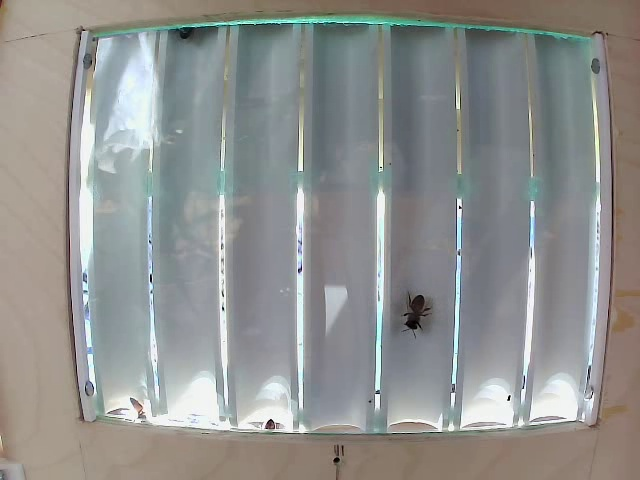bee: (395, 280, 440, 351)
